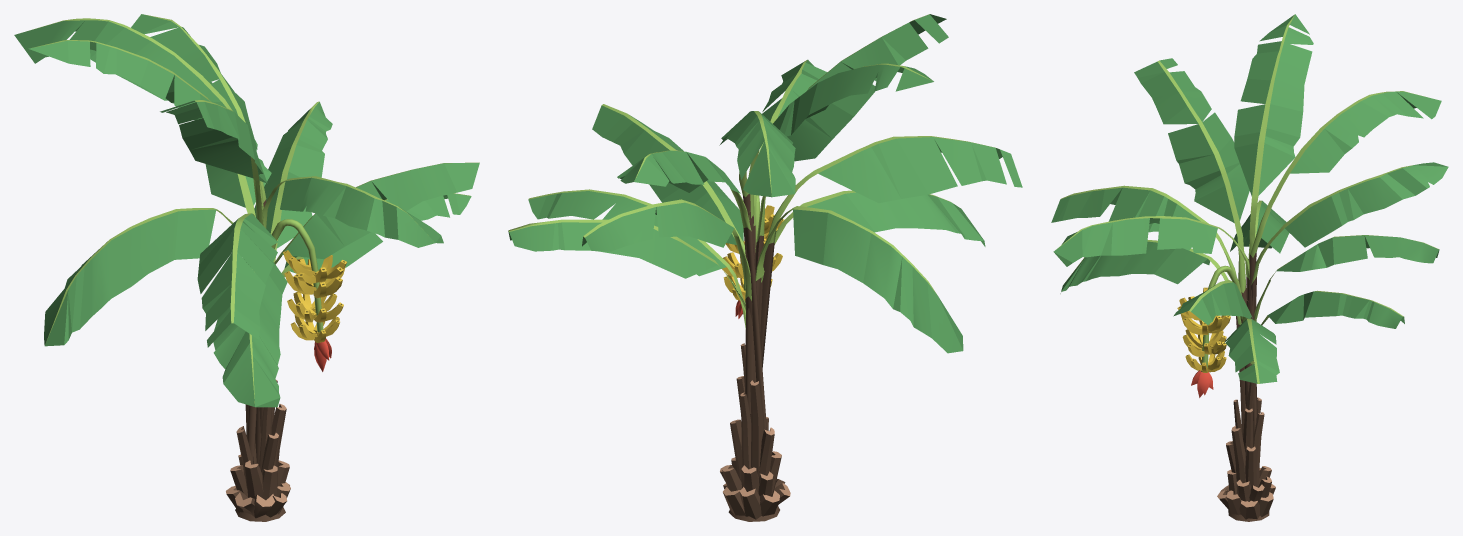
Rendered from plant_banana_A.fbx.
3 views of the same model, side by side, from view 1: azimuth 30°, elevation 25°; view 2: azimuth 150°, elevation 25°; view 3: azimuth 270°, elevation 25° (orthographic). The views are drawn at different scales.
Visible parts, largest first — view 1: plant_banana_leaves, plant_banana_trunk, stem_banana; view 2: plant_banana_leaves, plant_banana_trunk; view 3: plant_banana_leaves, plant_banana_trunk, stem_banana.
Boxes of the visible parts, x1,y1,x2,y2 form: plant_banana_leaves: (14, 14, 479, 463); plant_banana_trunk: (226, 379, 290, 521); stem_banana: (271, 219, 323, 332); plant_banana_leaves: (508, 14, 1022, 430); plant_banana_trunk: (720, 258, 790, 521); plant_banana_leaves: (1051, 14, 1448, 438); plant_banana_trunk: (1217, 299, 1275, 521); stem_banana: (1201, 265, 1242, 371).
Bounding box in the file's own units: 238 × 264 × 228.
